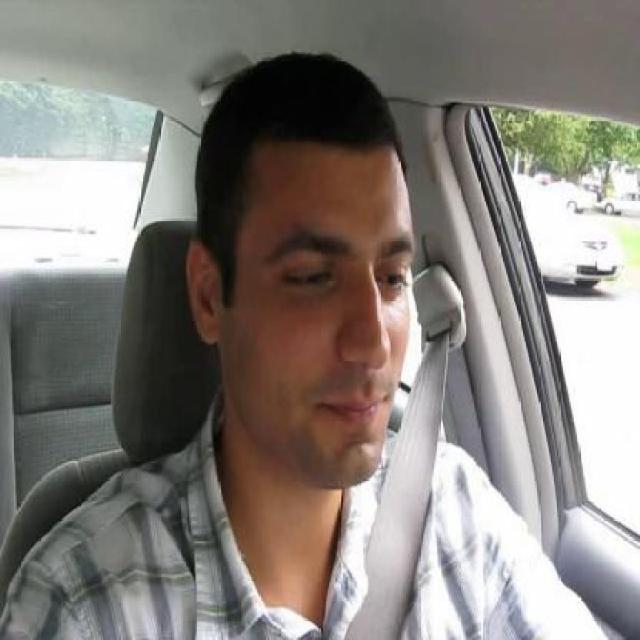drowsy: (285, 260, 333, 298), (373, 260, 404, 294)
